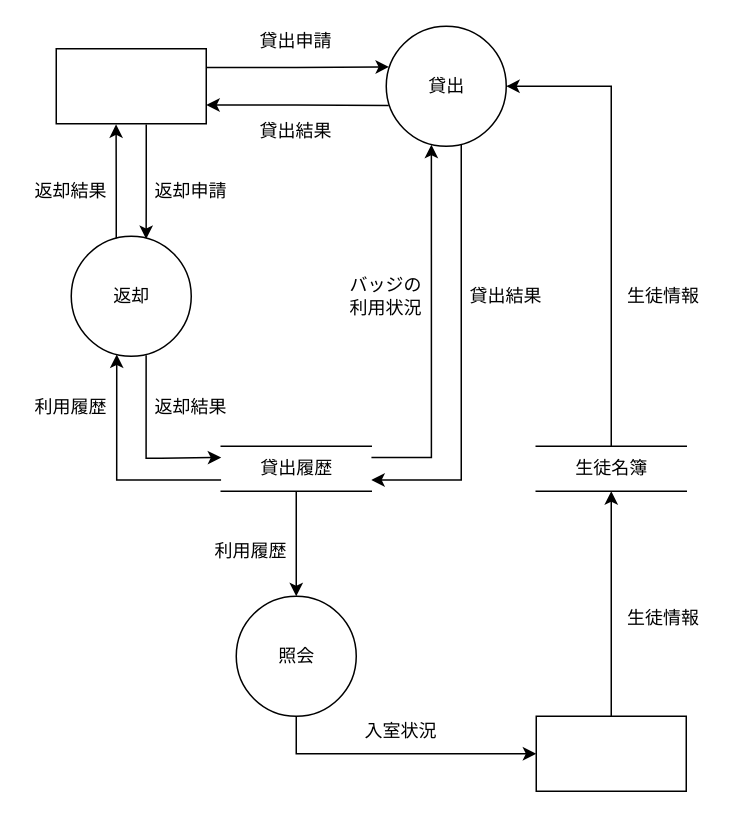
The diagram is 741 pixels wide and 818 high, and some of its shapes have lost their labels. Each missing label, with the box of its shape:
先生: (535, 715, 686, 791)
生徒: (55, 47, 206, 124)
